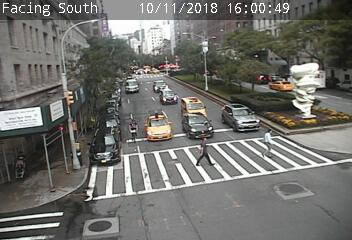car: (223, 104, 261, 132), (183, 113, 213, 139), (145, 115, 171, 140), (181, 97, 206, 121), (160, 89, 178, 105), (153, 81, 168, 92)
